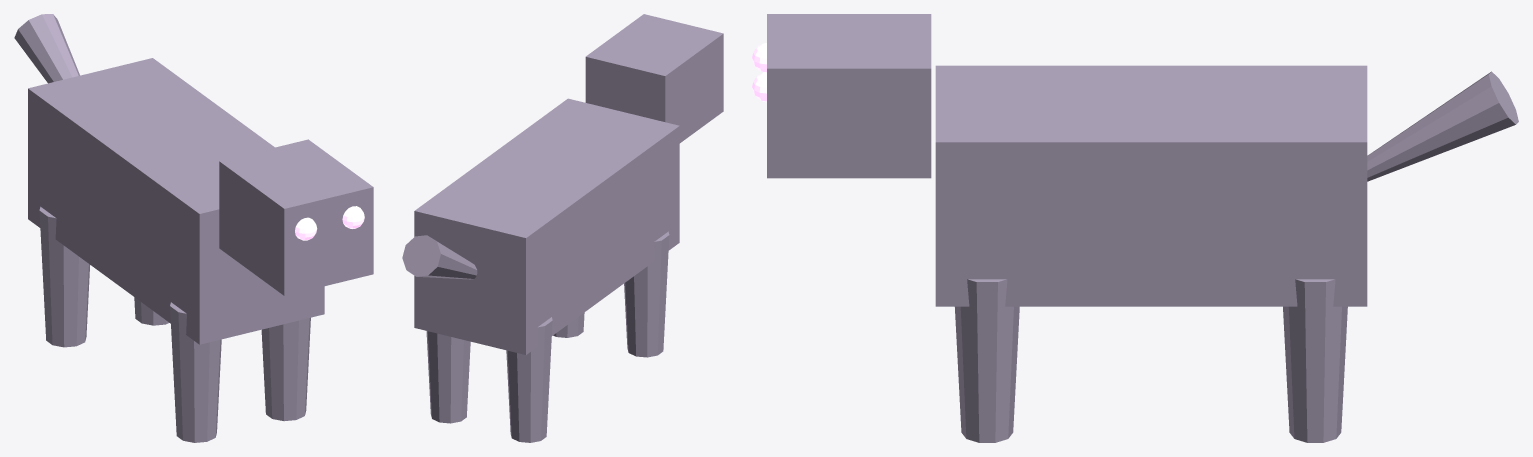
The picture shows the model from 3 angles, left to right: view 1: azimuth 30°, elevation 25°; view 2: azimuth 150°, elevation 25°; view 3: azimuth 270°, elevation 25°; orthographic projection. The views are drawn at different scales.
Visible parts, largest first — view 1: trunk, head, legFRm, legBRm, legFLm, tail, legBLm, eye, eye.001; view 2: trunk, head, legBRm, legFRm, legBLm, tail, legFLm; view 3: trunk, head, legBLm, legFLm, tail.
Boxes of the visible parts, box(x1,y1,x2,y2) form: trunk: box(28, 58, 324, 344); head: box(219, 139, 373, 295); legFRm: box(170, 302, 221, 442); legBRm: box(39, 206, 89, 347); legFLm: box(261, 317, 310, 421); tail: box(14, 14, 79, 83); legBLm: box(134, 297, 169, 325); eye: box(295, 217, 317, 240); eye.001: box(342, 206, 364, 228); trunk: box(414, 98, 679, 354); head: box(585, 14, 723, 143); legBRm: box(506, 317, 552, 442); legFRm: box(624, 231, 669, 357); legBLm: box(426, 331, 470, 423); tail: box(402, 235, 477, 279); legFLm: box(553, 312, 584, 337); trunk: box(935, 65, 1367, 306); head: box(767, 14, 931, 178); legBLm: box(1283, 279, 1347, 442); legFLm: box(955, 279, 1019, 442); tail: box(1367, 71, 1518, 181).
Bounding box in the file's own units: 0.7687 × 1.58 × 3.02.
